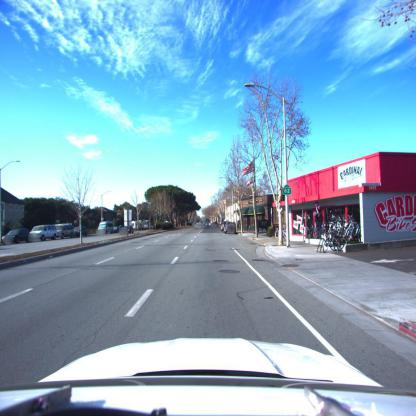bicycle: (315, 221, 365, 253)
car: (0, 337, 416, 416), (29, 225, 58, 243), (2, 229, 30, 245), (55, 225, 79, 239), (98, 219, 115, 236), (224, 222, 237, 235)
